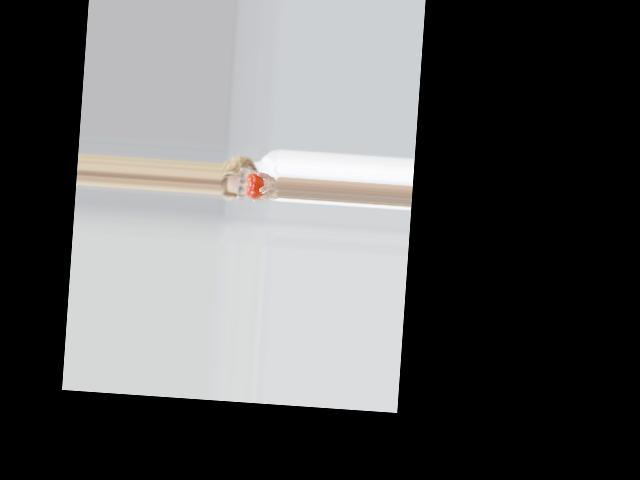tomato: (246, 172, 264, 198)
